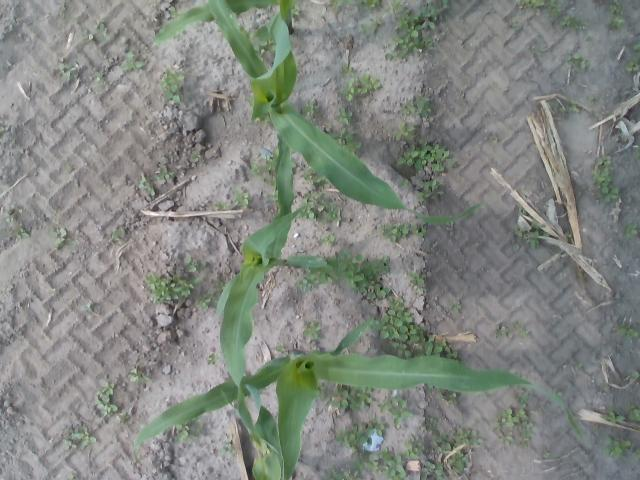Maize: (134, 315, 582, 480), (206, 0, 484, 224), (216, 134, 336, 442), (150, 1, 294, 48)
Weeds: (318, 416, 484, 480), (385, 0, 451, 62), (329, 250, 392, 301), (374, 296, 424, 358), (398, 139, 457, 174), (490, 407, 536, 449), (144, 270, 200, 304), (300, 192, 342, 225), (325, 384, 373, 412), (546, 0, 588, 30), (339, 73, 382, 102), (592, 155, 619, 201), (89, 382, 117, 423), (378, 394, 411, 428), (381, 221, 426, 245), (296, 267, 338, 291), (63, 426, 98, 452), (159, 68, 185, 102), (400, 92, 432, 118), (331, 128, 362, 153), (424, 336, 458, 358), (602, 434, 631, 458), (416, 179, 444, 201), (120, 50, 144, 72), (174, 423, 196, 446), (182, 255, 210, 272), (554, 101, 580, 119), (333, 106, 354, 126), (302, 320, 321, 342), (616, 323, 638, 342), (218, 434, 236, 457), (565, 53, 589, 70), (600, 410, 625, 426), (360, 17, 382, 35), (395, 120, 415, 139), (52, 228, 70, 249), (408, 269, 427, 288), (138, 176, 156, 196), (128, 367, 150, 383), (514, 388, 532, 407), (58, 60, 78, 77), (3, 204, 19, 225), (330, 0, 356, 12), (153, 166, 175, 180), (250, 160, 272, 174), (511, 320, 530, 336), (437, 390, 458, 404), (234, 188, 250, 206), (200, 292, 216, 309), (526, 230, 539, 250), (340, 62, 356, 78), (622, 222, 638, 238), (303, 100, 318, 117), (517, 0, 545, 9), (253, 40, 268, 56), (510, 222, 525, 238), (626, 54, 640, 71), (607, 16, 624, 30), (111, 227, 125, 243), (16, 225, 30, 241), (358, 0, 380, 10), (608, 0, 622, 15), (80, 299, 95, 313), (80, 27, 94, 41), (529, 44, 542, 58), (93, 72, 106, 86), (627, 406, 640, 420), (318, 235, 335, 245), (215, 200, 228, 212), (214, 280, 227, 292), (495, 325, 508, 337), (451, 299, 462, 313), (312, 177, 328, 186), (118, 412, 132, 422), (398, 178, 408, 192), (300, 168, 312, 179), (189, 150, 200, 162), (94, 19, 106, 30), (207, 354, 220, 364), (511, 243, 522, 253), (169, 6, 178, 18), (509, 18, 519, 28), (626, 371, 638, 379), (516, 208, 528, 216), (276, 342, 285, 352), (489, 131, 498, 141), (633, 40, 640, 52), (292, 8, 302, 16), (604, 384, 612, 394), (574, 362, 584, 370), (554, 390, 565, 397), (542, 450, 550, 458), (0, 123, 6, 133), (590, 98, 600, 104), (532, 223, 540, 230), (564, 231, 570, 240), (58, 4, 66, 10), (634, 450, 640, 456), (542, 232, 550, 236)
